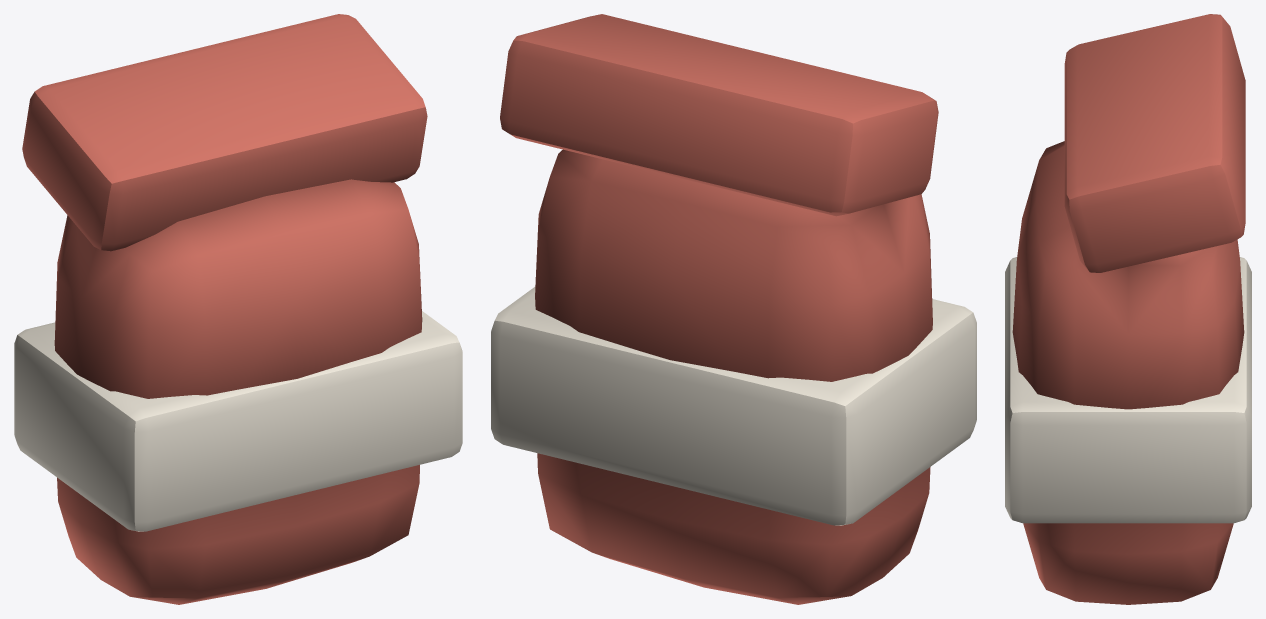
The model's file is bait_bag.glb.
3 renders of one model, left to right at view 1: azimuth 30°, elevation 25°; view 2: azimuth 150°, elevation 25°; view 3: azimuth 270°, elevation 25°, orthographic. The views are drawn at different scales.
Visible parts, largest first — view 1: PART; view 2: PART; view 3: PART.
Boxes of the visible parts, x1,y1,x2,y2 form: PART: (14,14,462,604); PART: (491,14,976,604); PART: (1005,14,1251,604).
Bounding box in the file's own units: 0.0859 × 0.1195 × 0.0556.
